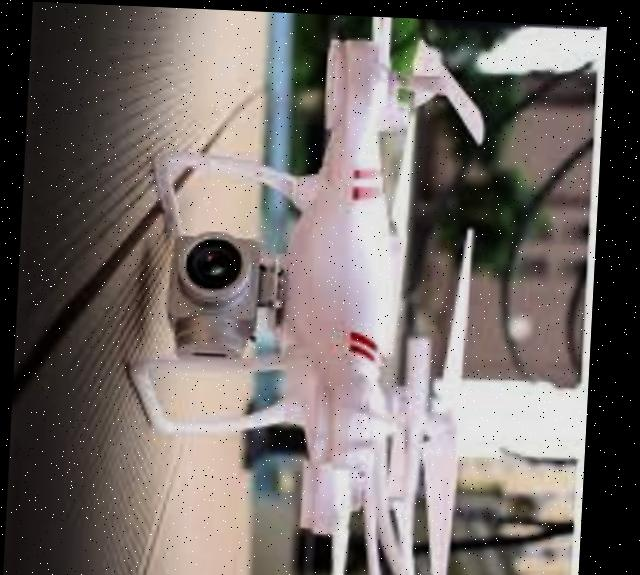drone: (102, 4, 516, 575)
